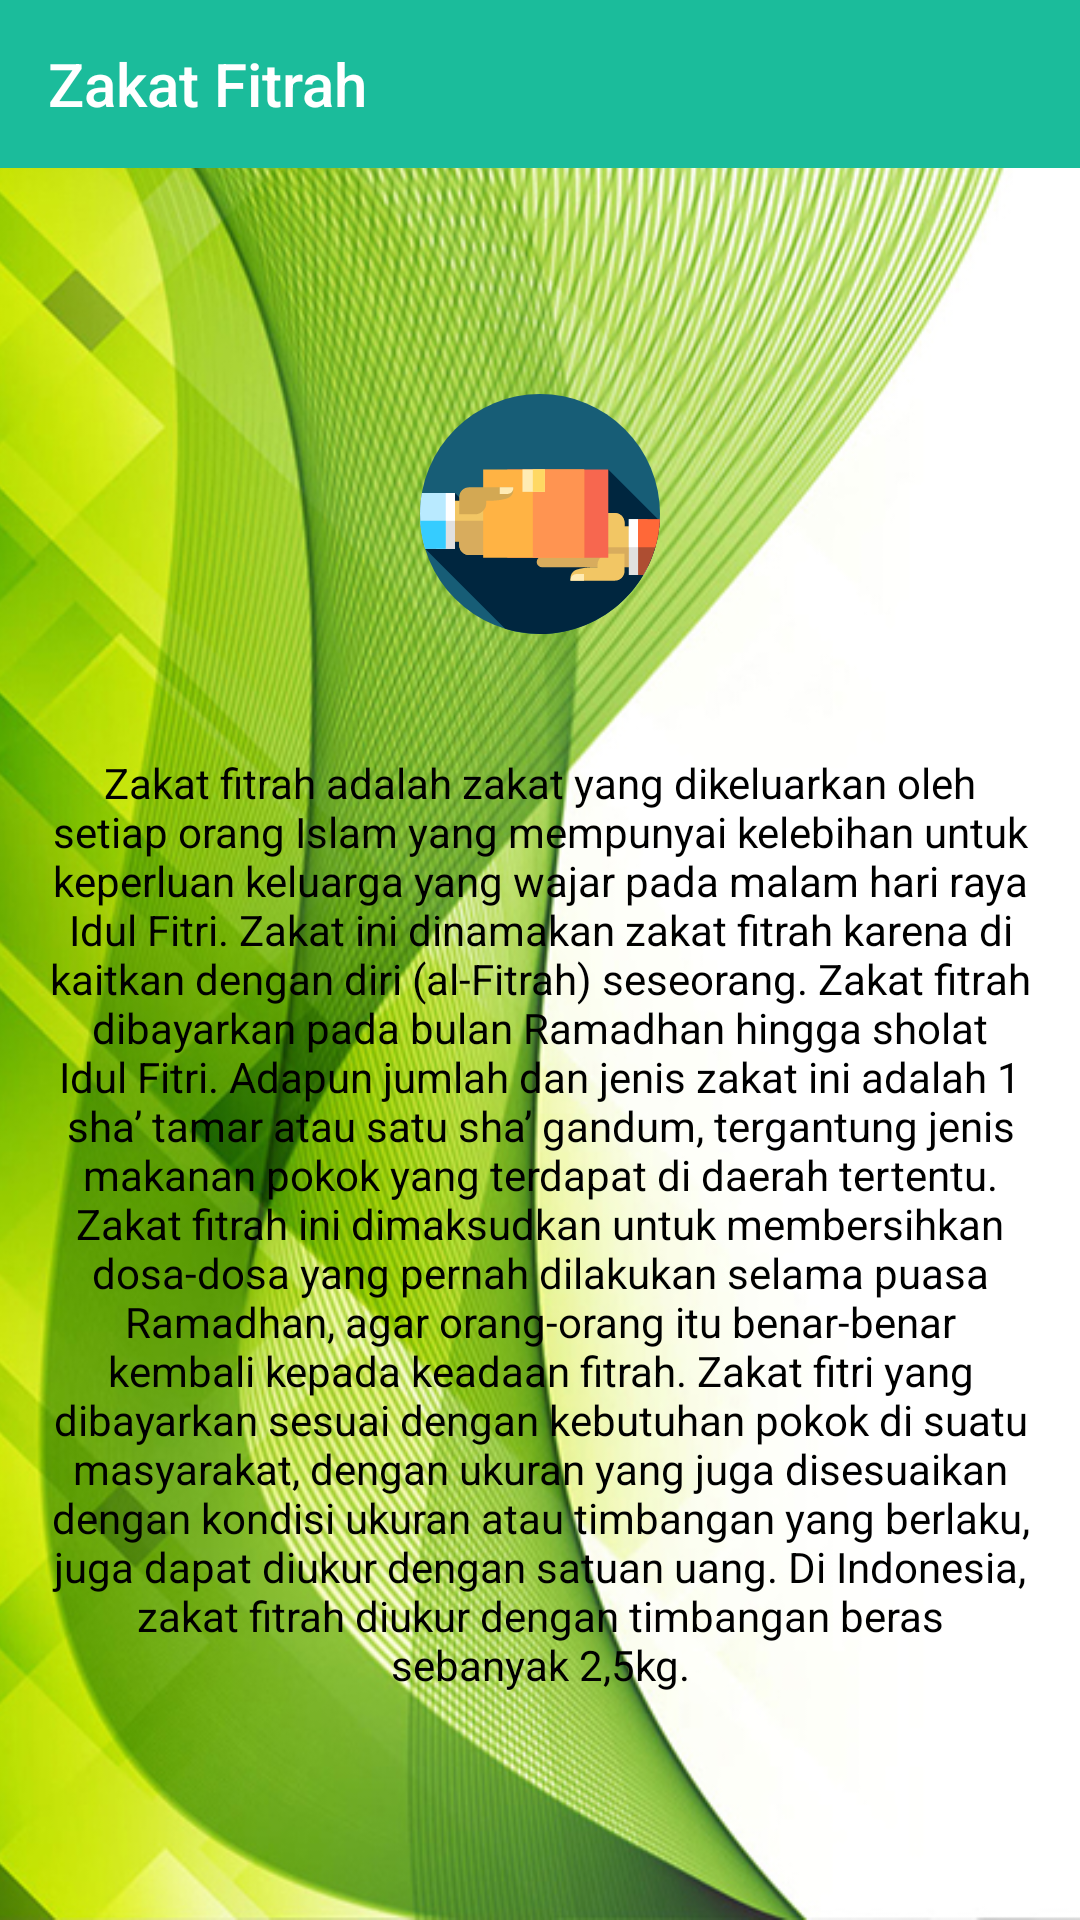

Icons on this 1080 x 1920 Android screen, each with the point to tap as (x=x, y=y):
give: (x=540, y=514)
